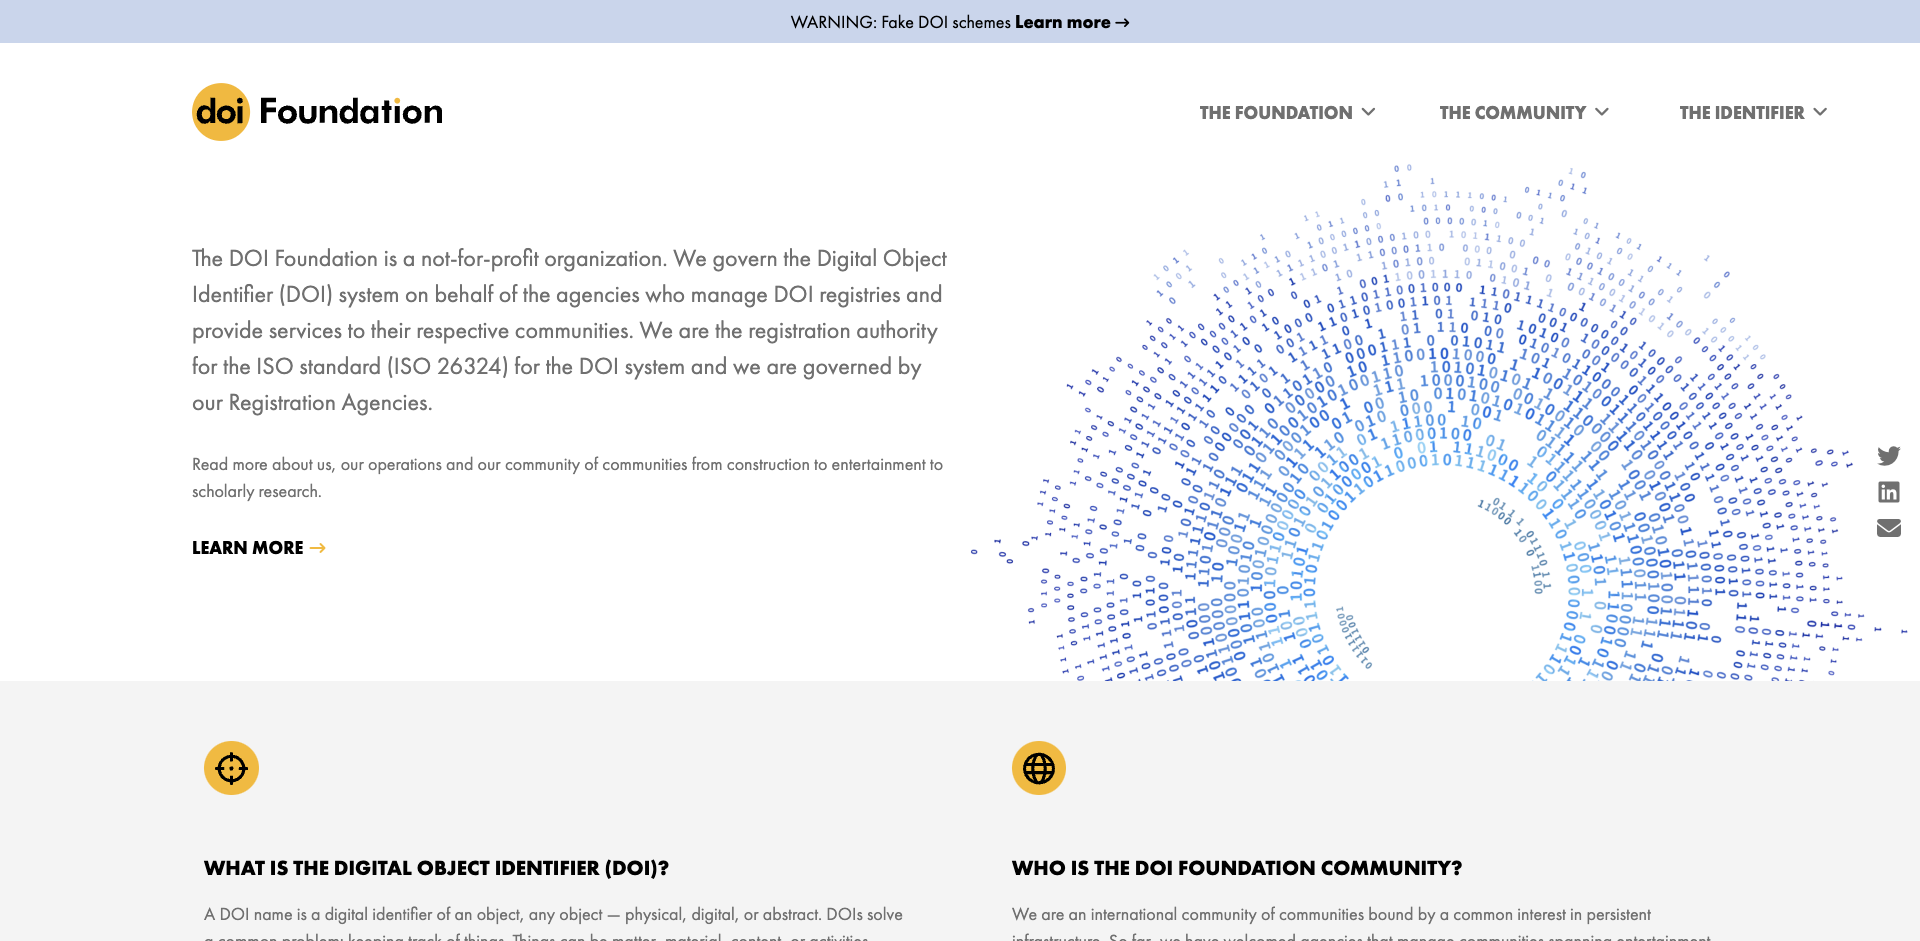icon: (1873, 480, 1904, 505)
link: (192, 98, 442, 121), (192, 535, 304, 559), (1015, 10, 1111, 33), (1873, 441, 1904, 473), (1873, 478, 1904, 508), (1873, 513, 1904, 544)
menu_item: (1140, 102, 1860, 135)
